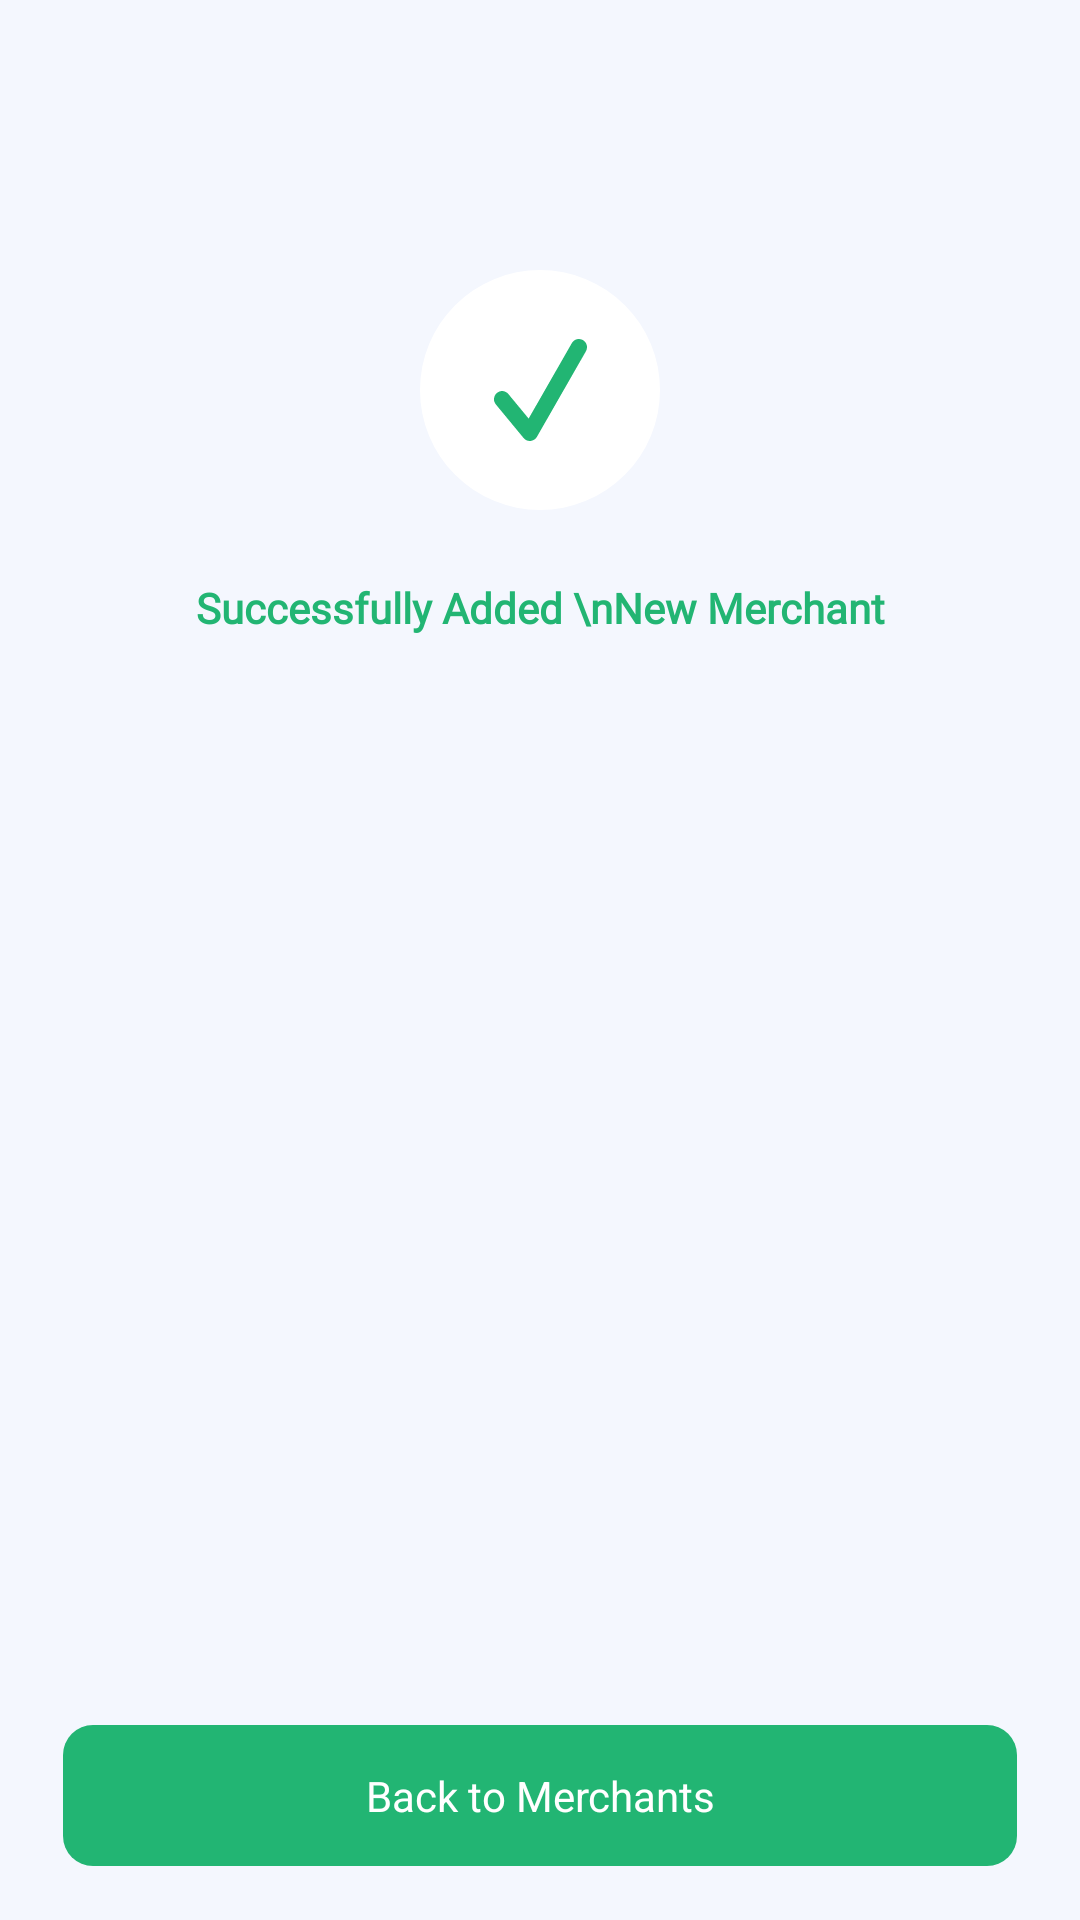

Point at icon controls on the screen. Image size 1080 × 1920, points as point (x, y).
tick: point (540, 390)
